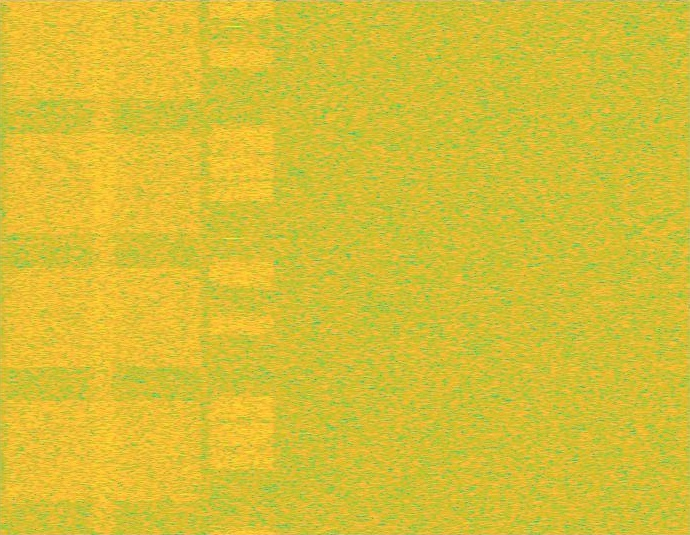5G: (0, 0, 207, 534)
DSSS: (90, 0, 117, 534)
LTE: (207, 0, 276, 534)
Radar: (226, 0, 240, 534)
